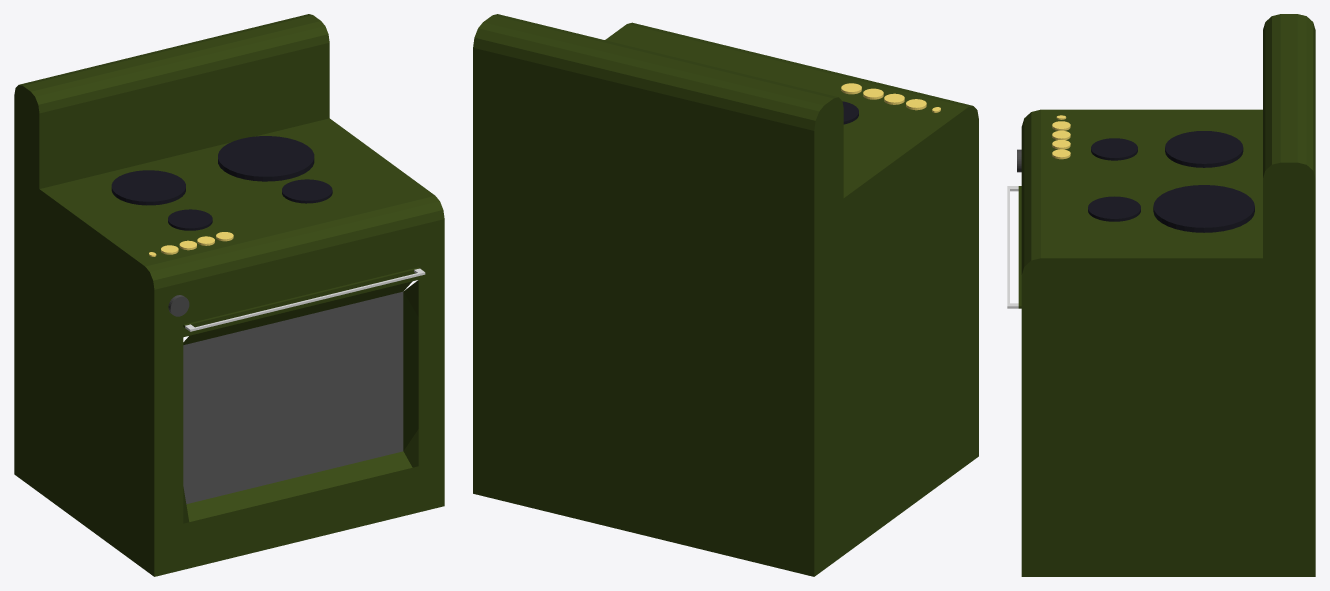
The model's file is Kitchen Oven.glb.
The picture shows the model from 3 angles, left to right: view 1: azimuth 30°, elevation 25°; view 2: azimuth 150°, elevation 25°; view 3: azimuth 270°, elevation 25°; orthographic projection. The views are drawn at different scales.
Parts seen in each view (by area): view 1: Oven and Stove; view 2: Oven and Stove; view 3: Oven and Stove.
Part boxes in pixels (x1,y1,x2,y2): Oven and Stove: [14, 14, 444, 576]; Oven and Stove: [473, 14, 978, 576]; Oven and Stove: [1007, 14, 1315, 576].
Bounding box in the file's own units: 1.83 × 2.38 × 1.6.
